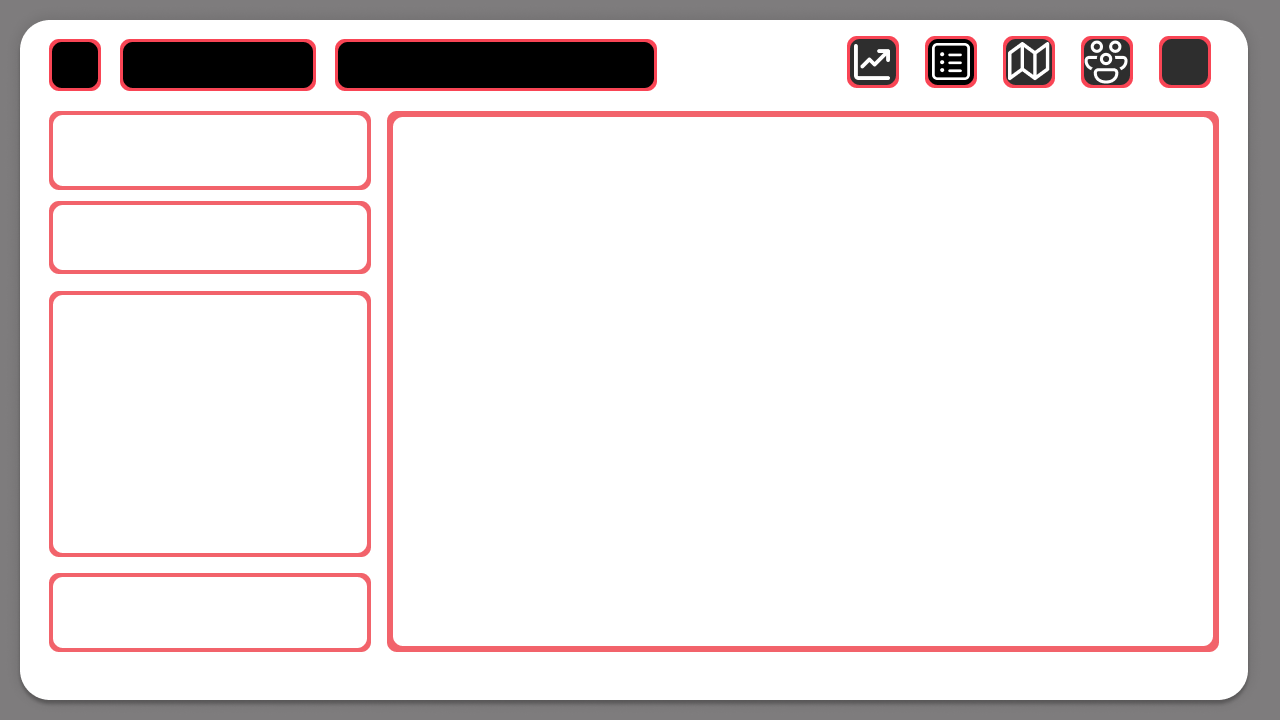

Layout of this report page (visuals, bound fields, positions):
{"tool":"powerbi","page":{"name":"Details","canvas":[1280,720],"ordinal":2},"visuals":[{"type":"textbox","box":[124.3,39.5,196.4,54.6],"z":0},{"type":"image","box":[31.4,30.2,87.1,69.7],"z":2000},{"type":"actionButton","box":[44.2,38.3,60.4,54.6],"z":3000},{"type":"actionButton","box":[1164.3,41.7,41.7,41.7],"z":4000},{"type":"tableEx","fields":{"Values":["Dim_Calendar2.Date","Sum(FAC-Partidas.Rank)","Dim-Agentes.Agent","Dim-Agentes.Rol","Dim-Mapas.Map","FAC-Partidas.Result","Sum(FAC-Partidas.KDA)","Sum(FAC-Partidas.K)","Sum(FAC-Partidas.D)","Sum(FAC-Partidas.A)","Sum(FAC-Partidas.ACS)"]},"box":[390.4,116.2,826.1,533.3],"z":5000},{"type":"slicer","fields":{"Values":["Dim_Calendar2.Date"]},"box":[48.7,108.4,318.3,82],"z":6000},{"type":"slicer","fields":{"Values":["FAC-Partidas.Result"]},"box":[336.4,41.7,318.3,45.9],"z":7000},{"type":"slicer","fields":{"Values":["Dim-Mapas.Map"]},"box":[51.4,208.5,318.3,65.3],"z":8000},{"type":"slicer","fields":{"Values":["Dim-Agentes.Agent"]},"box":[51.4,290.5,318.3,262.7],"z":9000},{"type":"slicer","fields":{"Values":["Dim-Agentes.Rol"]},"box":[48.8,574,318.4,75.5],"z":10000},{"type":"actionButton","title":"Botón - Detalle","box":[927.4,39.3,47.6,47.6],"z":11000},{"type":"actionButton","title":"Botón - Detalle","box":[1006,36.9,47.6,47.6],"z":12000},{"type":"actionButton","title":"Botón - Detalle","box":[1083.3,38.1,47.6,47.6],"z":13000},{"type":"actionButton","title":"Botón - Detalle","box":[848.8,38.1,47.6,47.6],"z":14000},{"type":"actionButton","box":[0,0,30.9,29.5],"z":15000},{"type":"actionButton","box":[122,38.4,191.9,52.1],"z":16000}]}

Visuals, with their boxes in screenshot pixels (x1, y1, x2, y2), scaled from the page's 1280x720 canvas onto the 1280x720 screenshot:
textbox: l=124, t=40, r=321, b=94
image: l=31, t=30, r=118, b=100
actionButton: l=44, t=38, r=105, b=93
actionButton: l=1164, t=42, r=1206, b=83
tableEx - Dim_Calendar2.Date x Sum(FAC-Partidas.Rank): l=390, t=116, r=1216, b=650
slicer - Dim_Calendar2.Date: l=49, t=108, r=367, b=190
slicer - FAC-Partidas.Result: l=336, t=42, r=655, b=88
slicer - Dim-Mapas.Map: l=51, t=208, r=370, b=274
slicer - Dim-Agentes.Agent: l=51, t=290, r=370, b=553
slicer - Dim-Agentes.Rol: l=49, t=574, r=367, b=650
"Botón - Detalle" actionButton: l=927, t=39, r=975, b=87
"Botón - Detalle" actionButton: l=1006, t=37, r=1054, b=84
"Botón - Detalle" actionButton: l=1083, t=38, r=1131, b=86
"Botón - Detalle" actionButton: l=849, t=38, r=896, b=86
actionButton: l=0, t=0, r=31, b=30
actionButton: l=122, t=38, r=314, b=90
